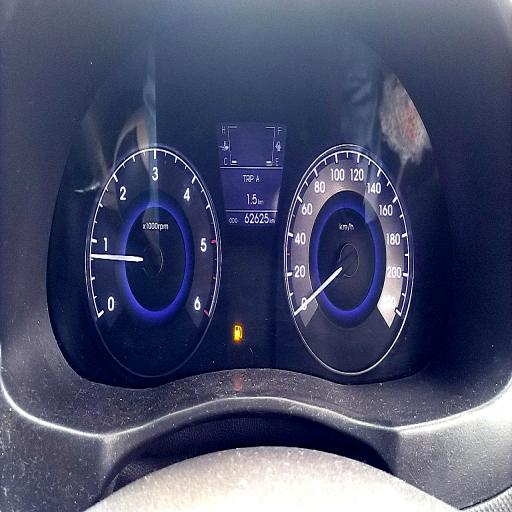tachometer: (85, 142, 222, 376)
